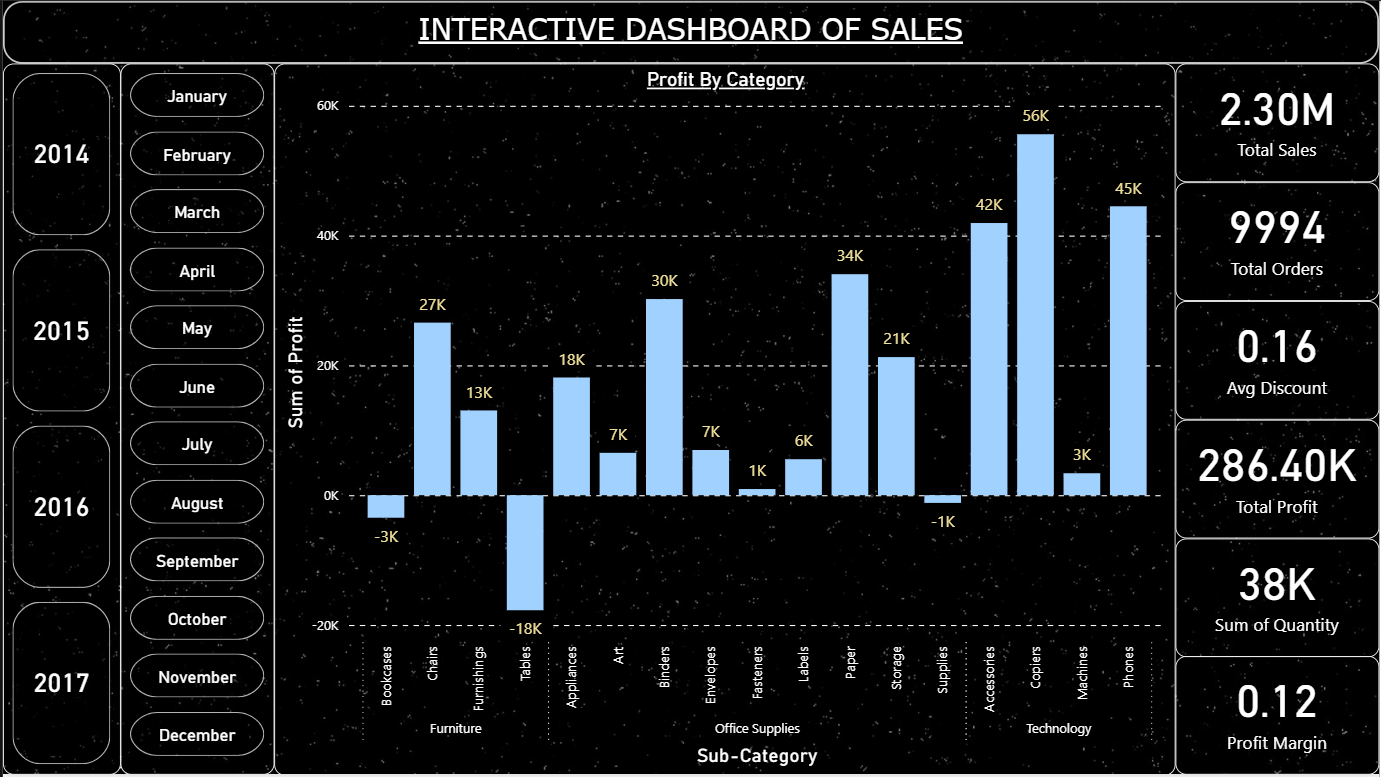

The dashboard page shown, as its layout file describes it:
{"tool":"powerbi","page":{"name":"Page 1","canvas":[1280,720],"ordinal":0},"visuals":[{"type":"textbox","box":[0,0,1280.3,57.6],"z":0},{"type":"card","fields":{"Values":["Superstore.Total Sales"]},"box":[1090.7,58.1,189.5,110.5],"z":1000},{"type":"card","fields":{"Values":["Superstore.Total Orders"]},"box":[1090.7,168.6,189.5,110.5],"z":2000},{"type":"card","fields":{"Values":["Superstore.Avg Discount"]},"box":[1090.7,279.1,189.5,110.5],"z":3000},{"type":"card","fields":{"Values":["Superstore.Total Profit"]},"box":[1090.7,389.5,189.5,110.5],"z":4000},{"type":"columnChart","title":"Profit By Category","fields":{"Category":["Superstore.Category","Superstore.Sub-Category"],"Y":["Sum(Superstore.Profit)"]},"box":[252.3,58.1,838.4,662.8],"z":5000},{"type":"advancedSlicerVisual","fields":{"Values":["Superstore.Order Date.Variation.Date Hierarchy.Year"]},"box":[0,58.1,109.3,661.6],"z":6000},{"type":"advancedSlicerVisual","fields":{"Values":["Superstore.Order Date.Variation.Date Hierarchy.Month"]},"box":[109.3,58.1,143,661.6],"z":7000},{"type":"card","fields":{"Values":["Sum(Superstore.Quantity)"]},"box":[1090.7,500,189.5,110.5],"z":8000},{"type":"card","fields":{"Values":["Superstore.Profit Margin"]},"box":[1090.7,609.3,189.5,110.5],"z":9000}]}

Visuals, with their boxes in screenshot pixels (x1, y1, x2, y2), scaled from the page's 1280x720 canvas onto the 1381x777 screenshot:
textbox: <box>0,0,1380,62</box>
card - Superstore.Total Sales: <box>1177,63,1380,182</box>
card - Superstore.Total Orders: <box>1177,182,1380,301</box>
card - Superstore.Avg Discount: <box>1177,301,1380,420</box>
card - Superstore.Total Profit: <box>1177,420,1380,540</box>
"Profit By Category" columnChart: <box>272,63,1177,776</box>
advancedSlicerVisual - Superstore.Order Date.Variation.Date Hierarchy.Year: <box>0,63,118,776</box>
advancedSlicerVisual - Superstore.Order Date.Variation.Date Hierarchy.Month: <box>118,63,272,776</box>
card - Sum(Superstore.Quantity): <box>1177,540,1380,659</box>
card - Superstore.Profit Margin: <box>1177,658,1380,776</box>
